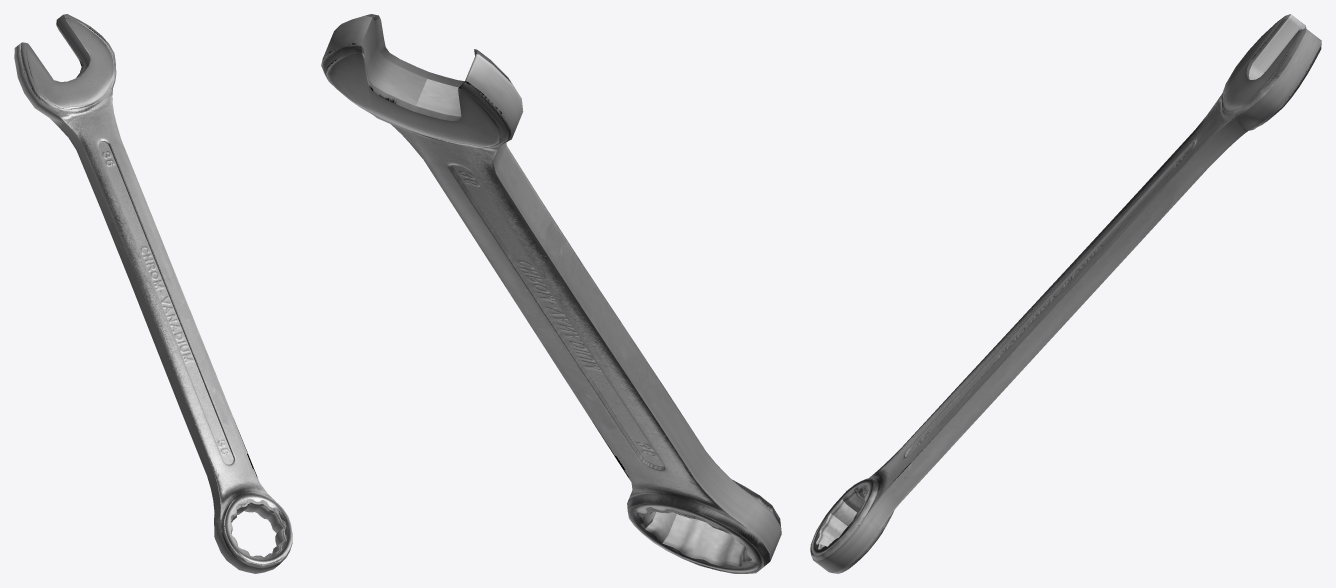
File: parameter.glb
The picture shows the model from 3 angles, left to right: view 1: azimuth 30°, elevation 25°; view 2: azimuth 150°, elevation 25°; view 3: azimuth 270°, elevation 25°; orthographic projection. The views are drawn at different scales.
Parts seen in each view (by area): view 1: Plane; view 2: Plane; view 3: Plane.
Part boxes in pixels (x1,y1,x2,y2): Plane: (14,14,292,573); Plane: (321,14,781,573); Plane: (810,14,1321,573).
Bounding box in the file's own units: 0.251 × 1.01 × 0.8825.
1 material, 1 textured.
